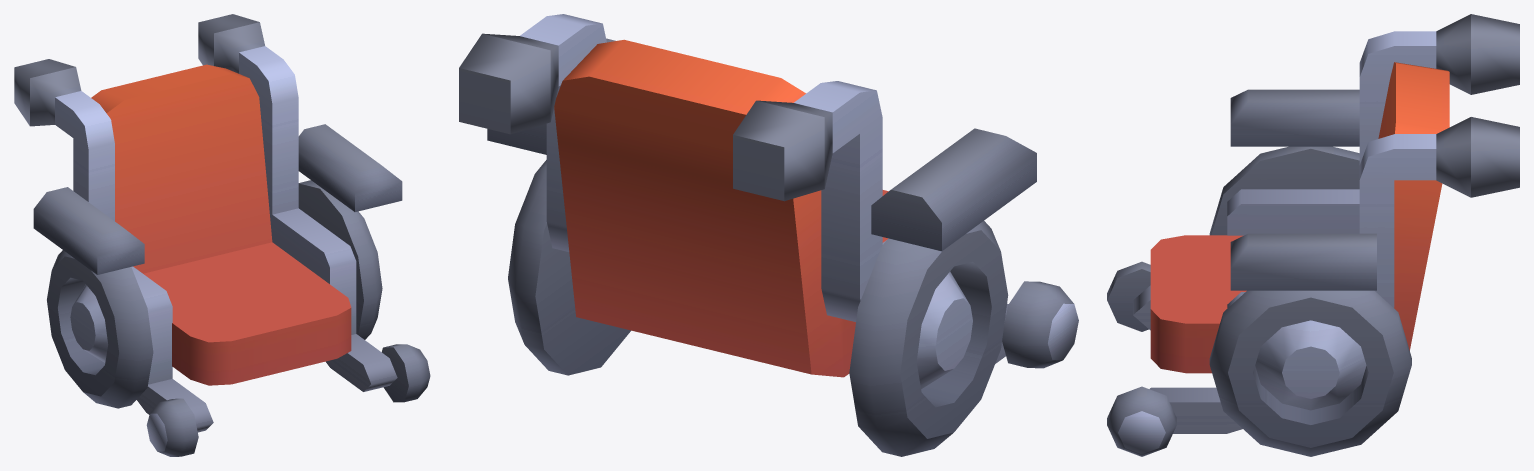
Rendered from wheelchair-deluxe.glb.
3 views of the same model, side by side, from view 1: azimuth 30°, elevation 25°; view 2: azimuth 150°, elevation 25°; view 3: azimuth 270°, elevation 25° (orthographic). The views are drawn at different scales.
Visible parts, largest first — view 1: wheelchair-deluxe; view 2: wheelchair-deluxe; view 3: wheelchair-deluxe.
Part boxes in pixels (left/top/right/bottom): wheelchair-deluxe: left=14, top=14, right=430, bottom=456; wheelchair-deluxe: left=459, top=14, right=1078, bottom=456; wheelchair-deluxe: left=1107, top=14, right=1519, bottom=456.
Size of the model in its own units: 0.5791 by 0.495 by 0.5924.
Materials: 1 (1 with a texture image).
